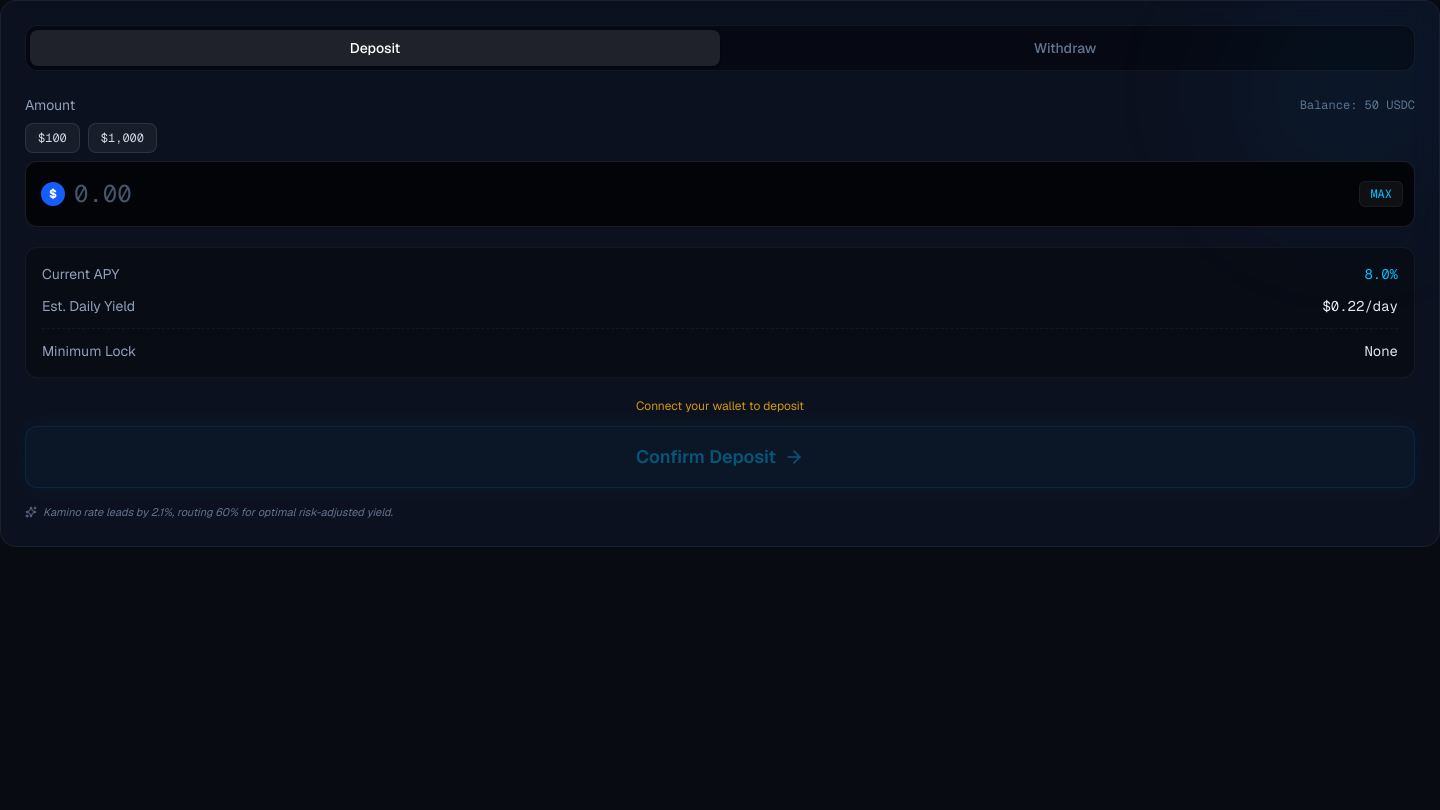
Test: DepositForm — preset amount buttons › click behaviour › clicking a preset clears any prior validation error
# Type an invalid amount directly to produce a validation error
Type "999" into the number field with placeholder "0.00".
click(720, 194); type("999")  # box [25,161,1415,227]
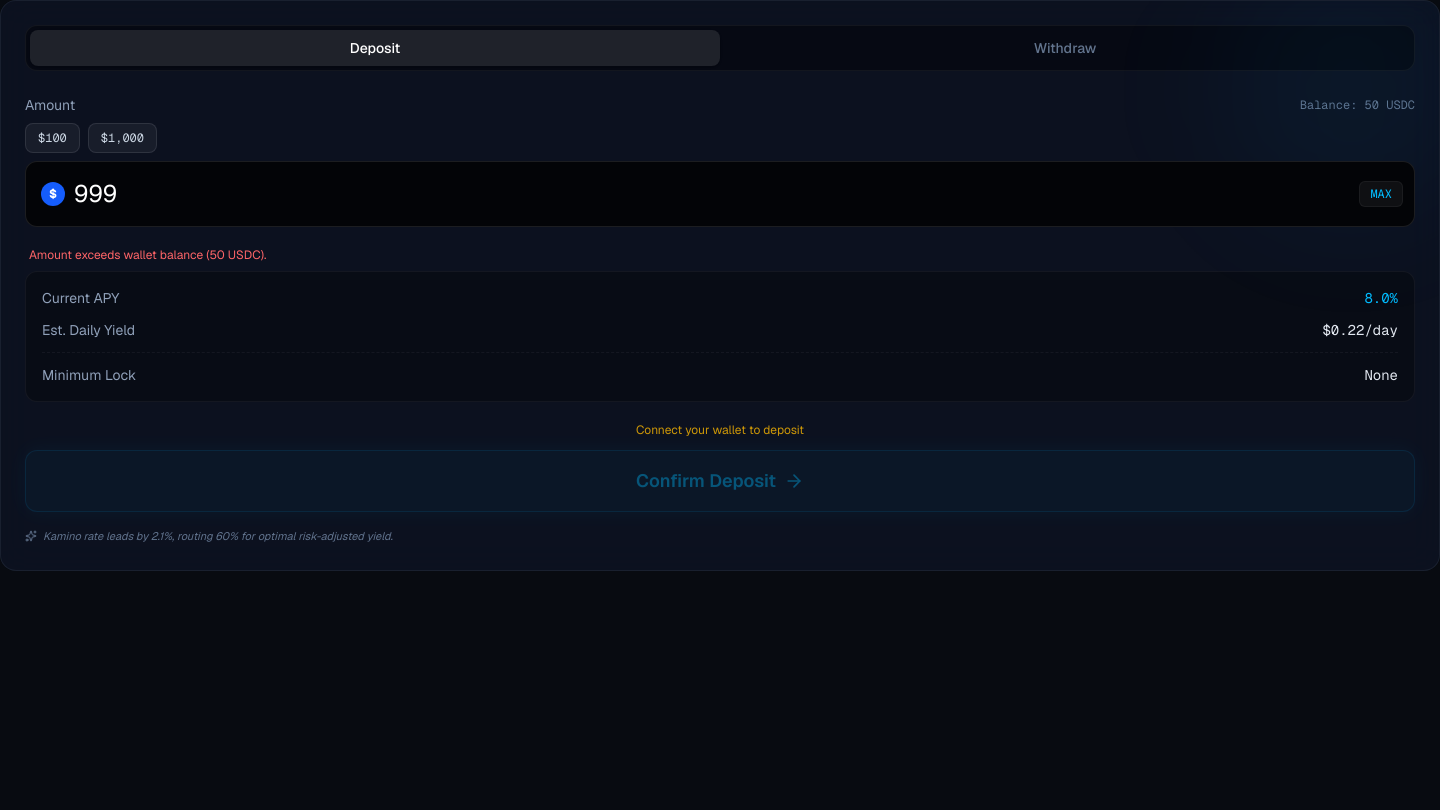
expect the message "Amount exceeds wallet balance (50 USDC)." is shown: met, box [29,247,266,263]
Click the button "$100".
click(52, 138)  # box [25,123,80,153]
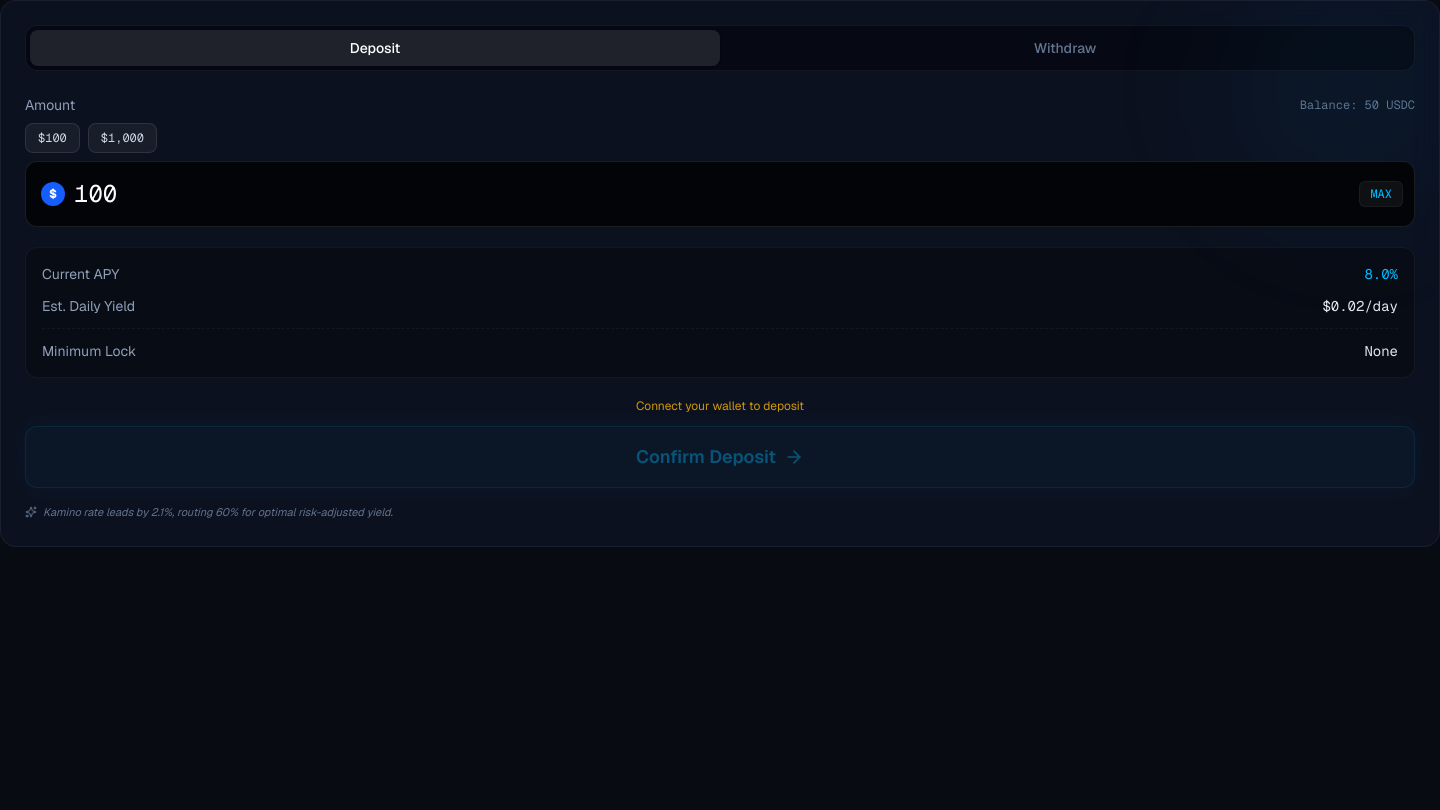
expect the number field with placeholder "0.00" holds "100": met, box [25,161,1415,227]
